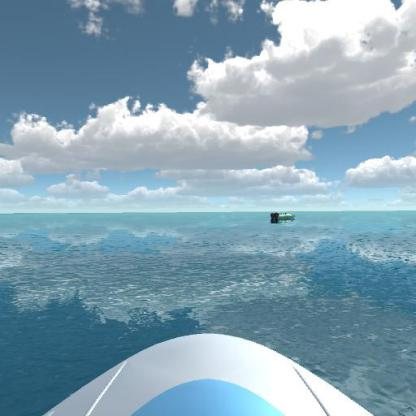usv0: (268, 208, 298, 226)
